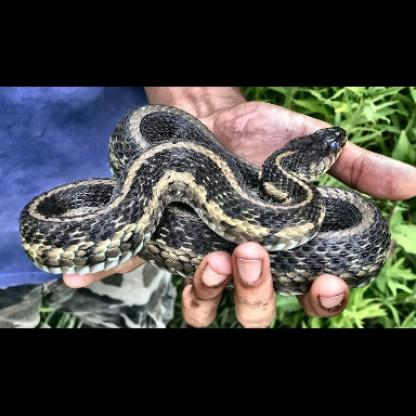Snake: (21, 100, 392, 290)
